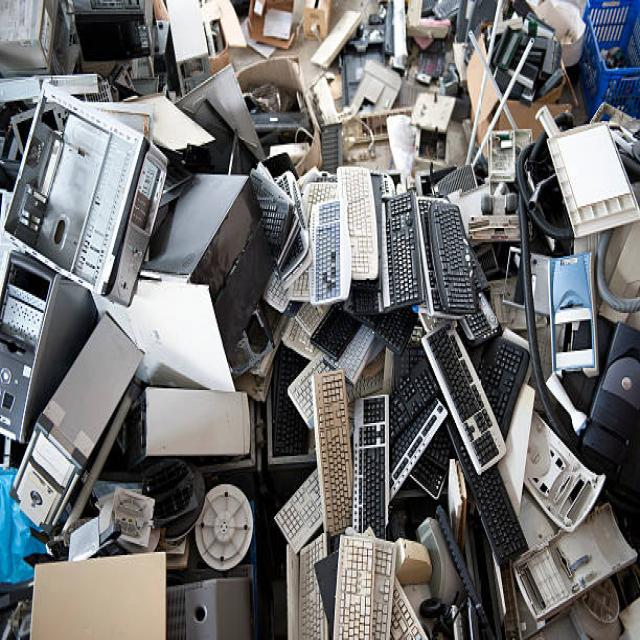metal: (21, 25, 616, 593)
